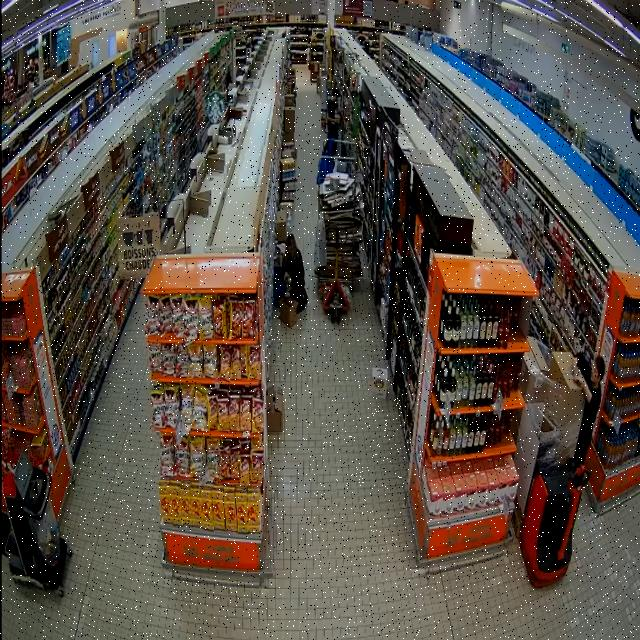article: (285, 277, 291, 286)
hands: (574, 375, 586, 389), (572, 357, 577, 370), (284, 272, 289, 281), (288, 277, 292, 284)
person: (573, 354, 605, 467), (284, 234, 308, 313)
